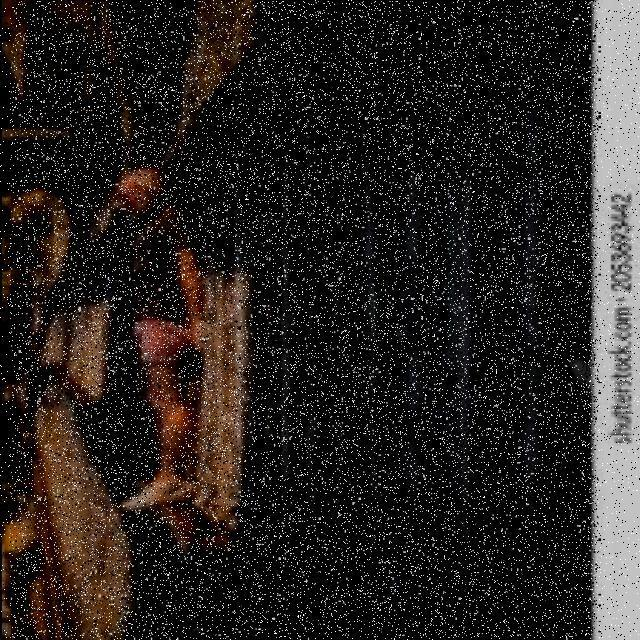danger: (108, 154, 198, 515)
rail: (11, 1, 598, 639)
